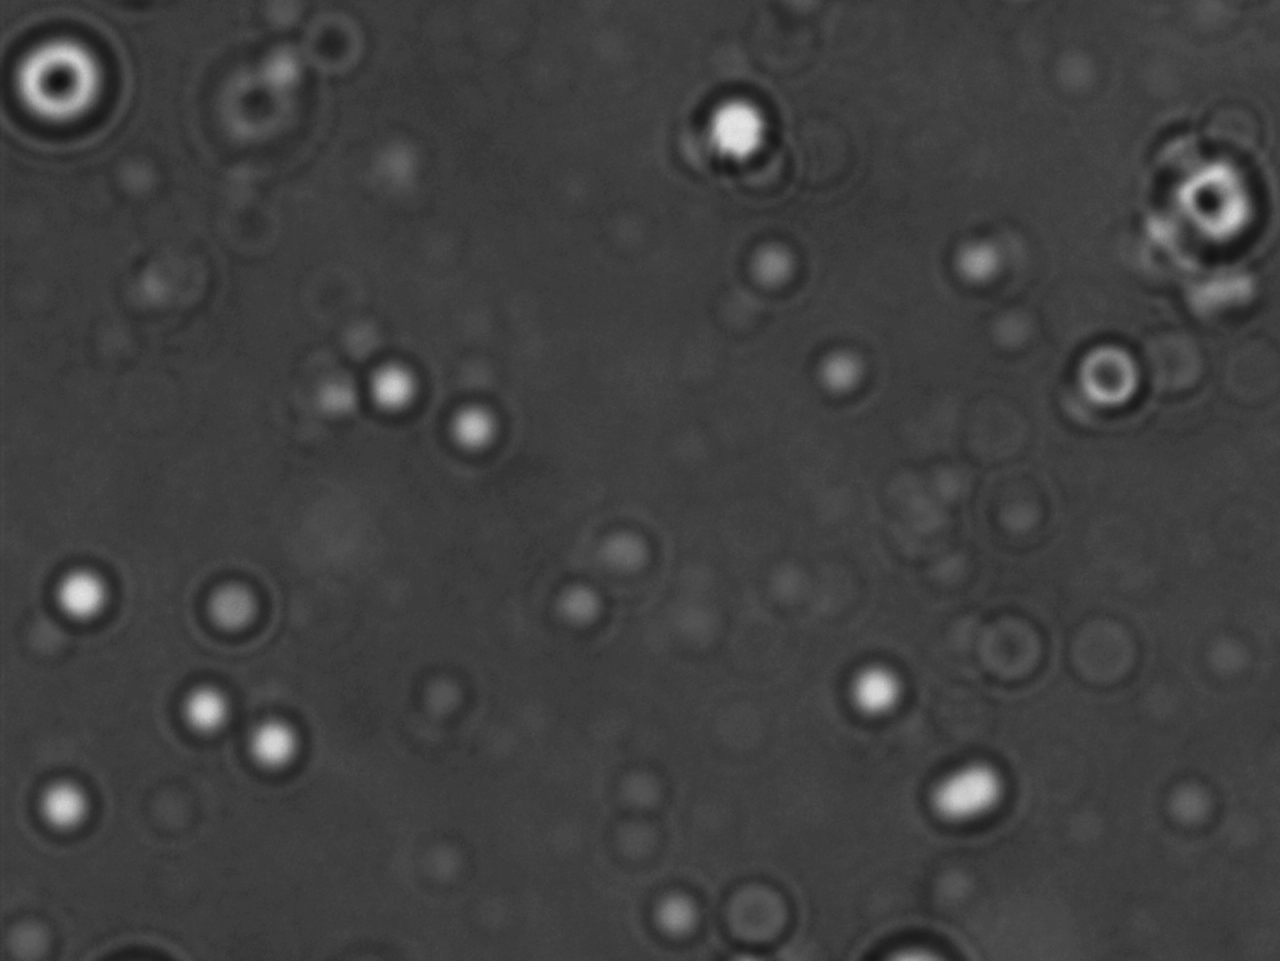depth:16: (1147, 137, 1269, 266)
